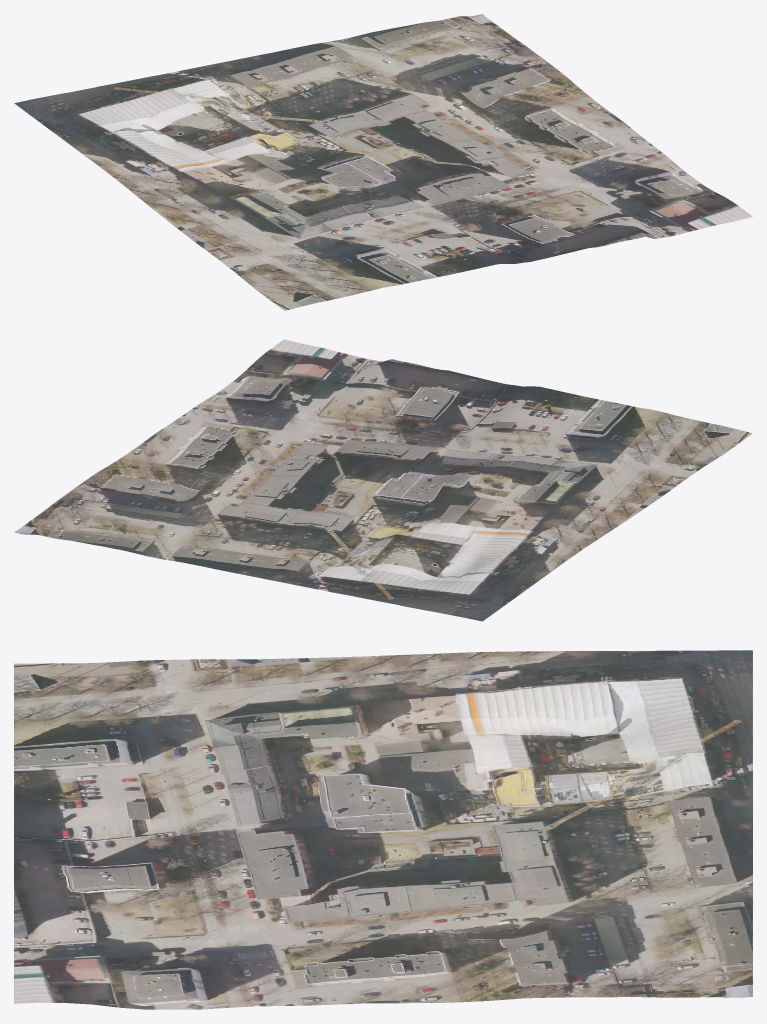
Rendered from CM_Terrain_24486568_6820408.fbx.
3 renders of one model, top to bottom at view 1: azimuth 30°, elevation 25°; view 2: azimuth 150°, elevation 25°; view 3: azimuth 270°, elevation 25°, orthographic. The views are drawn at different scales.
Parts seen in each view (by area): view 1: CM_Terrain_24486568_6820408_LOD0; view 2: CM_Terrain_24486568_6820408_LOD0; view 3: CM_Terrain_24486568_6820408_LOD0.
Part boxes in pixels (<box>): CM_Terrain_24486568_6820408_LOD0: <box>14,14,752,310</box>; CM_Terrain_24486568_6820408_LOD0: <box>14,339,752,621</box>; CM_Terrain_24486568_6820408_LOD0: <box>14,650,752,1009</box>.
Size of what is drawn, in the model's own units: 205 by 14.4 by 205.
